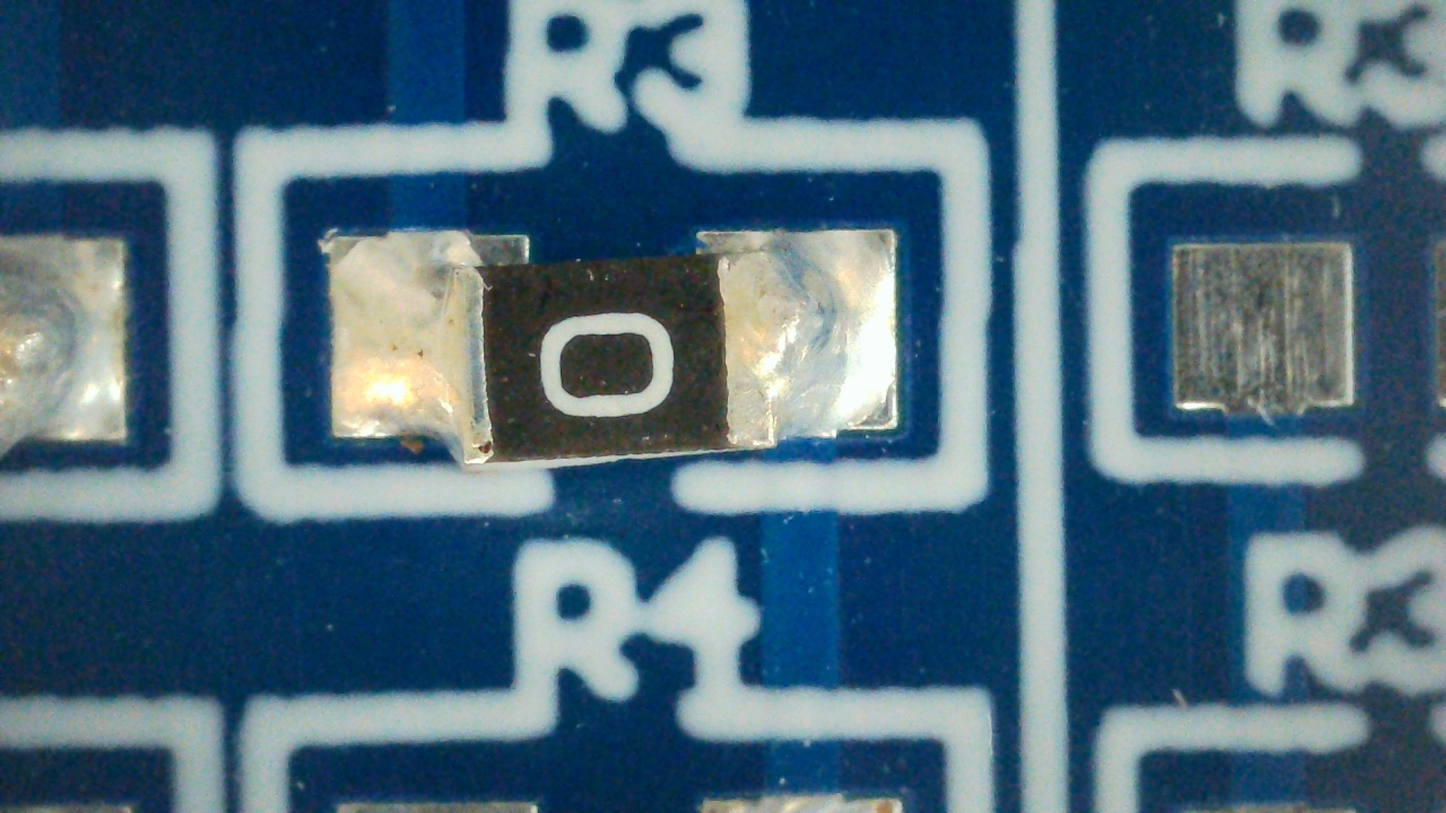NG: (330, 231, 897, 464)
